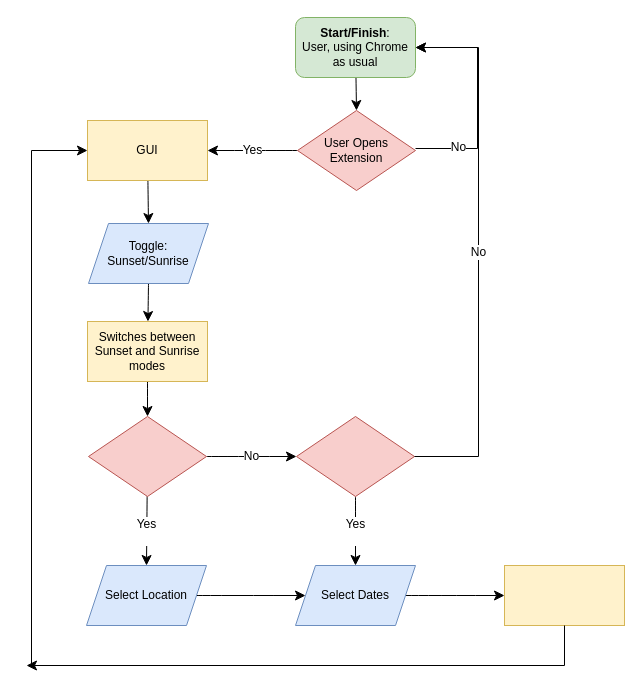
The diagram is 642 pixels wide and 693 high, and some of its shapes have lost their labels. Each missing label, with the box of its shape:
Create Sunset Event?: (88, 416, 206, 496)
Delete Sunset Event?: (296, 416, 414, 496)
Update Events: (504, 564, 624, 626)
